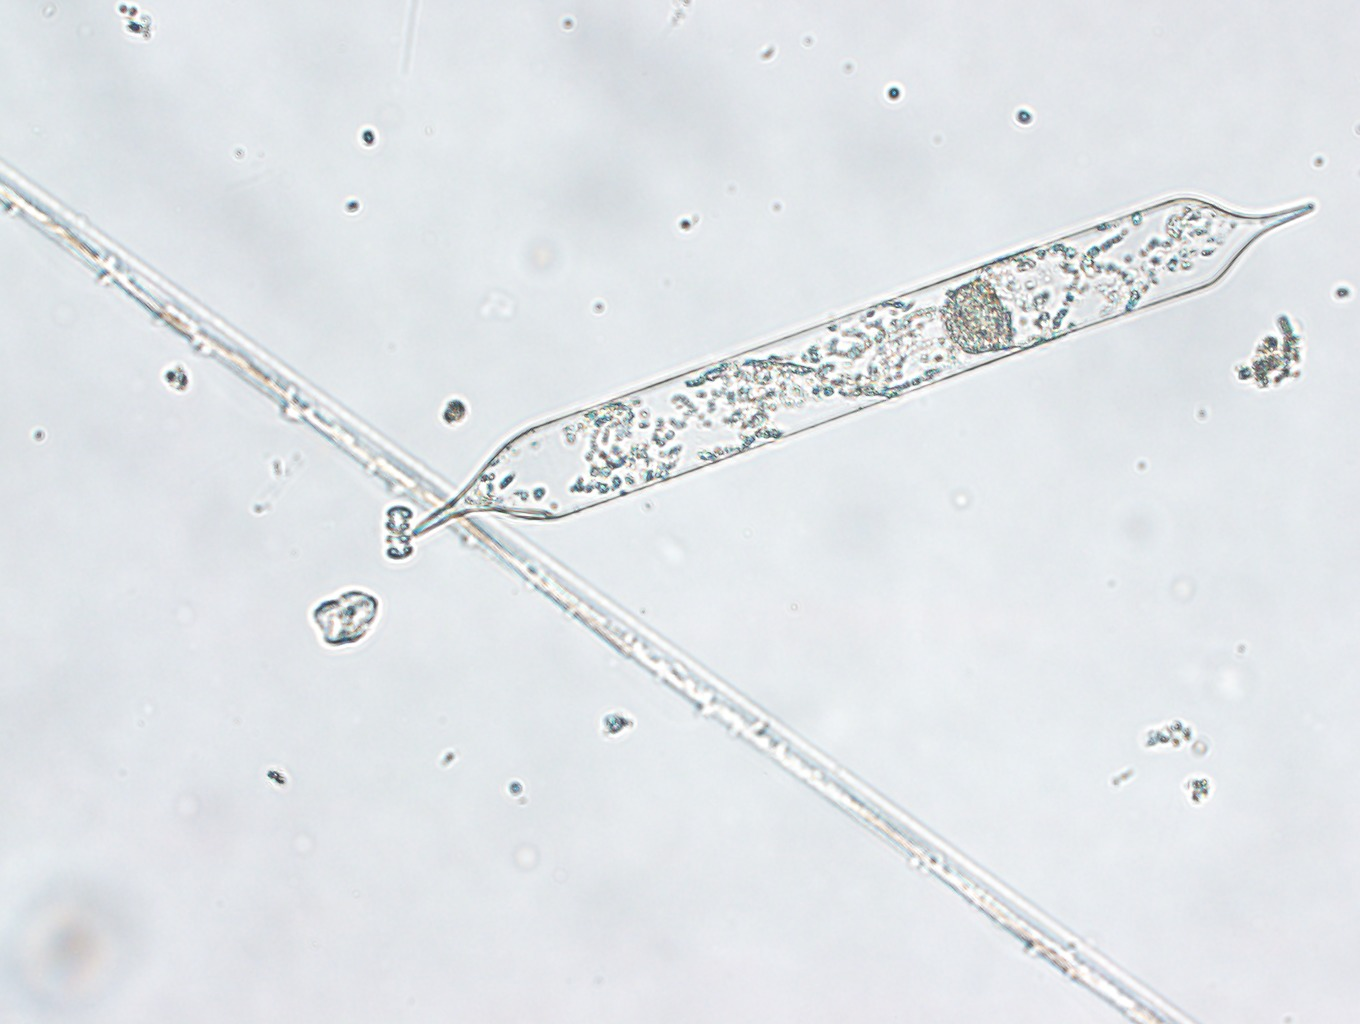rhizosolenia: (411, 198, 1318, 541)
skeletonema: (381, 502, 413, 564)
